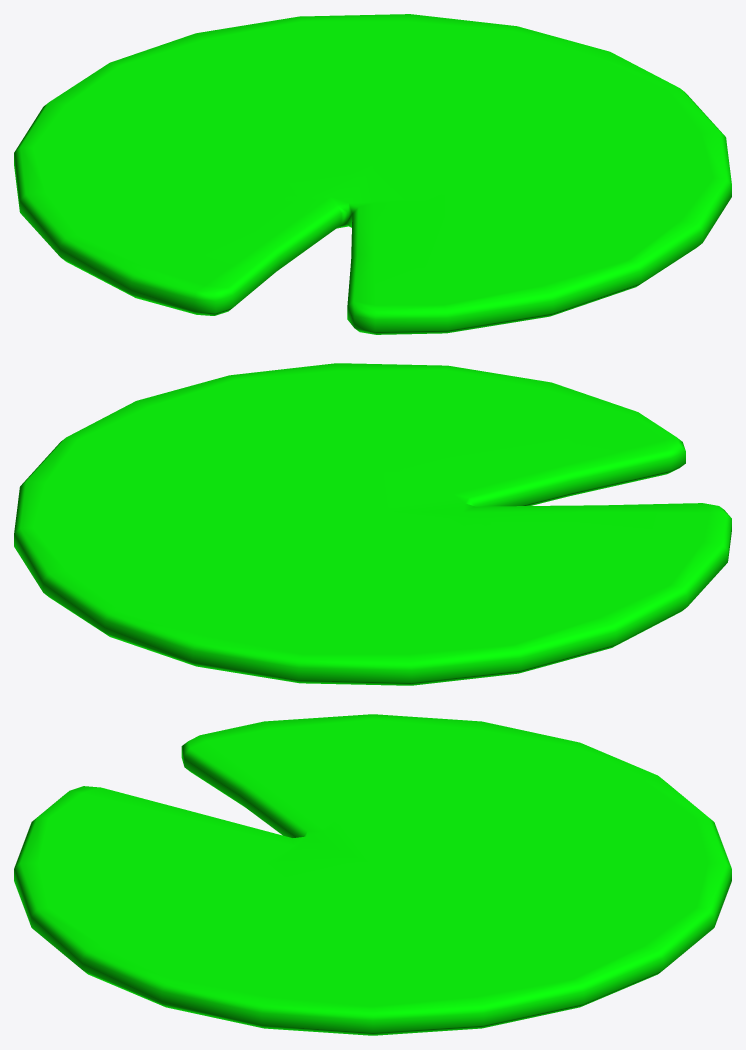
File: LilyPad_5.fbx
3 renders of one model, top to bottom at view 1: azimuth 30°, elevation 25°; view 2: azimuth 150°, elevation 25°; view 3: azimuth 270°, elevation 25°, orthographic.
Visible parts, largest first — view 1: LilyPad_5; view 2: LilyPad_5; view 3: LilyPad_5.
Part boxes in pixels (<box>): LilyPad_5: <box>14,14,731,334</box>; LilyPad_5: <box>14,363,731,685</box>; LilyPad_5: <box>14,714,731,1035</box>.
Size of the model in its own units: 438 by 17 by 438.
